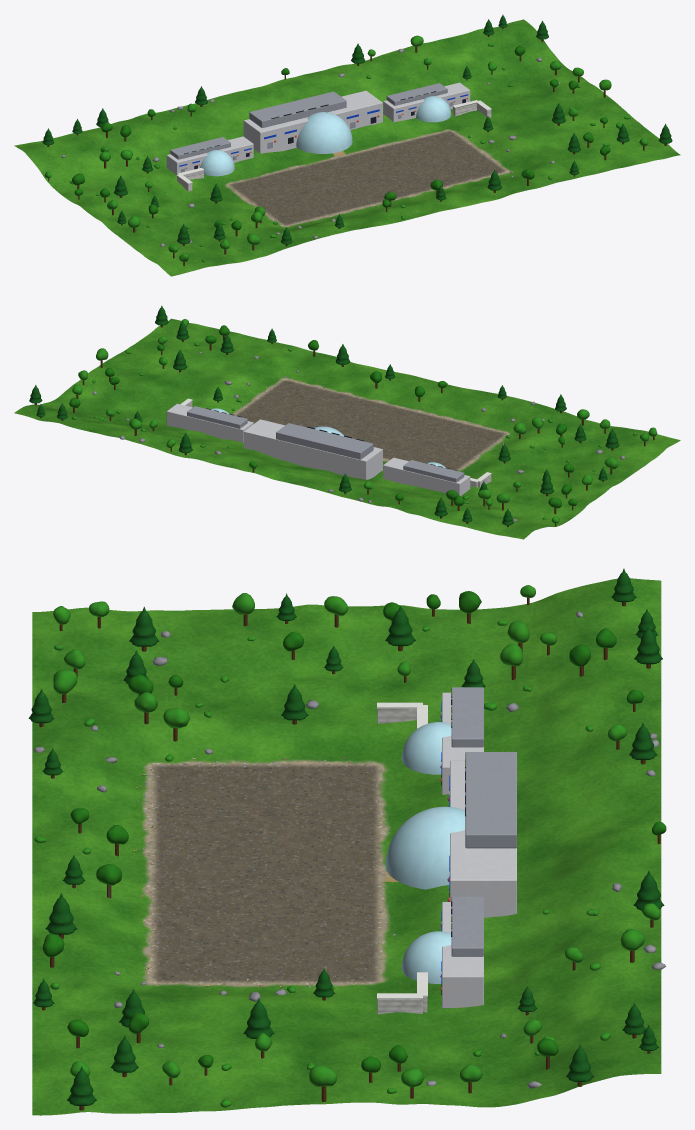
File: surroundings_29x11.glb
3 renders of one model, top to bottom at view 1: azimuth 30°, elevation 25°; view 2: azimuth 150°, elevation 25°; view 3: azimuth 270°, elevation 25°, orthographic. The views are drawn at different scales.
Visible parts, largest first — view 1: ground, props; view 2: ground, props; view 3: ground, props.
Boxes of the visible parts, bbox=[...] form: ground: bbox=[14, 19, 680, 276]; props: bbox=[42, 14, 672, 266]; ground: bbox=[14, 318, 680, 539]; props: bbox=[29, 305, 657, 527]; ground: bbox=[32, 578, 661, 1115]; props: bbox=[28, 568, 666, 1110].
Bounding box in the file's own units: 73.82 × 6.1 × 39.55.
2 materials, 2 textured.
